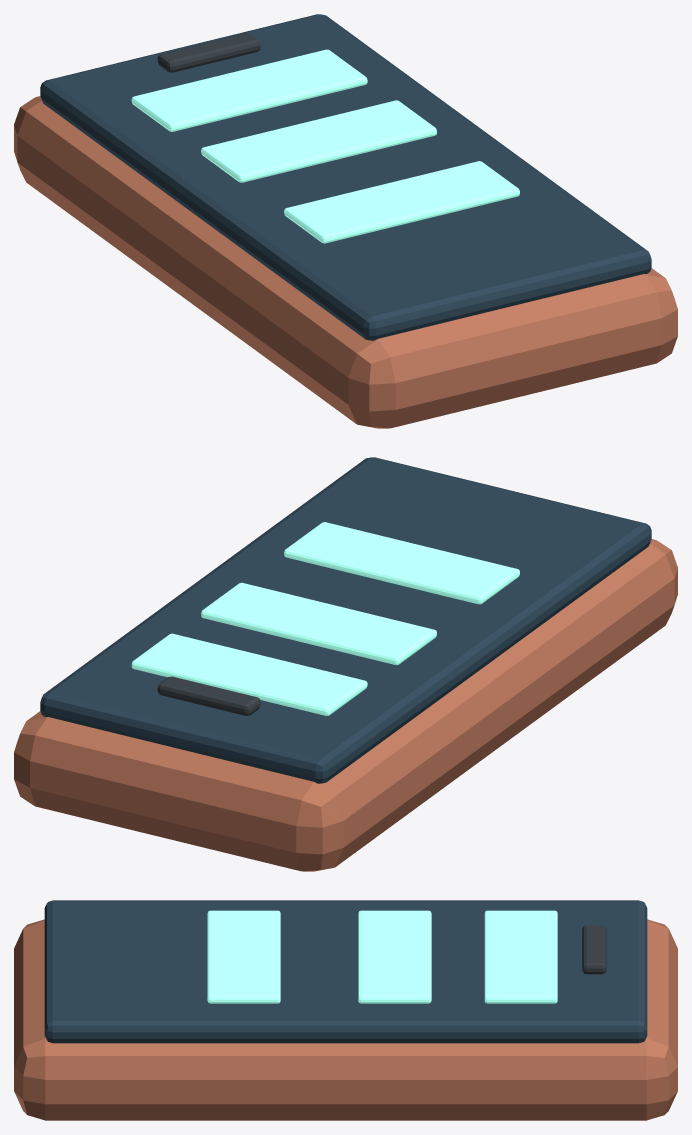
Rendered from phone.glb.
The picture shows the model from 3 angles, top to bottom: view 1: azimuth 30°, elevation 25°; view 2: azimuth 150°, elevation 25°; view 3: azimuth 270°, elevation 25°; orthographic projection. The views are drawn at different scales.
Visible parts, largest first — view 1: phone_Mesh; view 2: phone_Mesh; view 3: phone_Mesh.
Part boxes in pixels (<box>): phone_Mesh: <box>14,14,677,428</box>; phone_Mesh: <box>14,457,677,871</box>; phone_Mesh: <box>14,900,677,1120</box>.
Bounding box in the file's own units: 0.084 × 0.0315 × 0.163.
